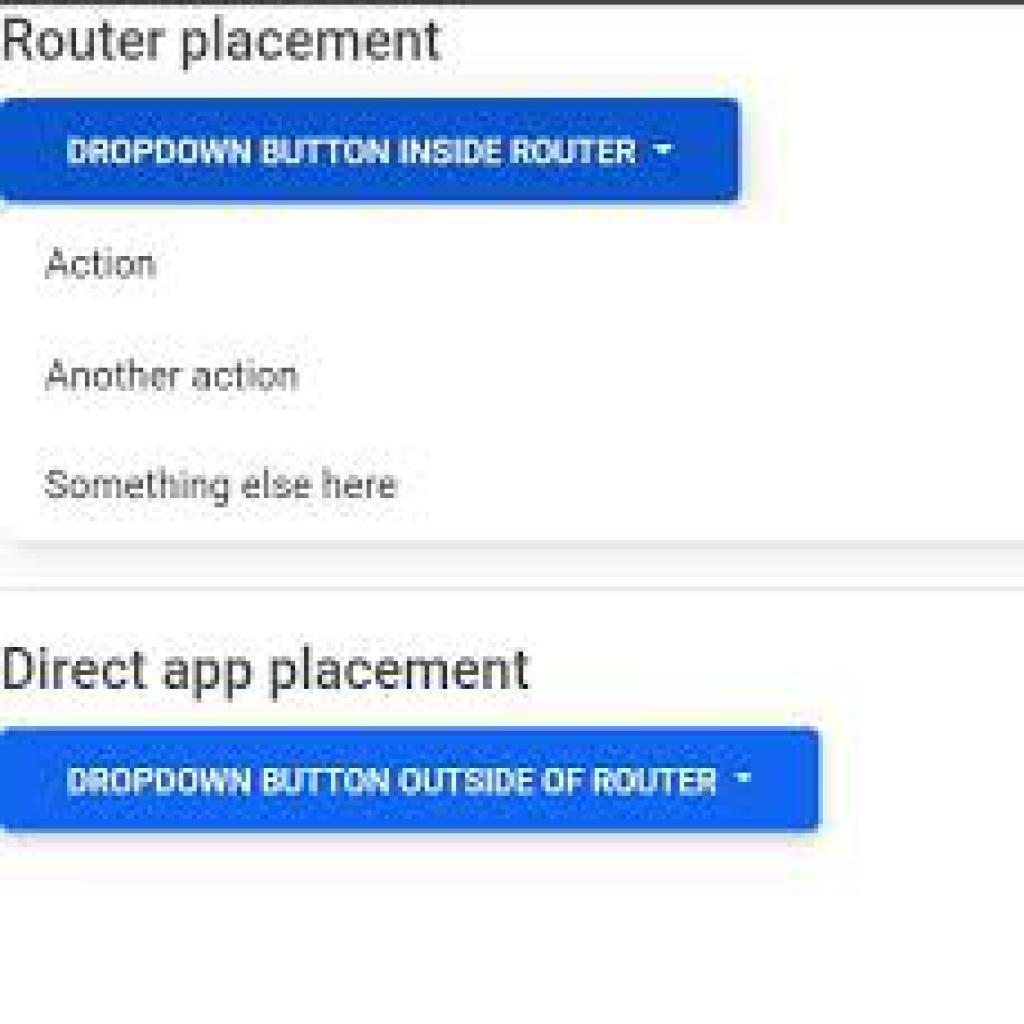dropdown: (2, 730, 821, 828), (1, 102, 741, 205)
